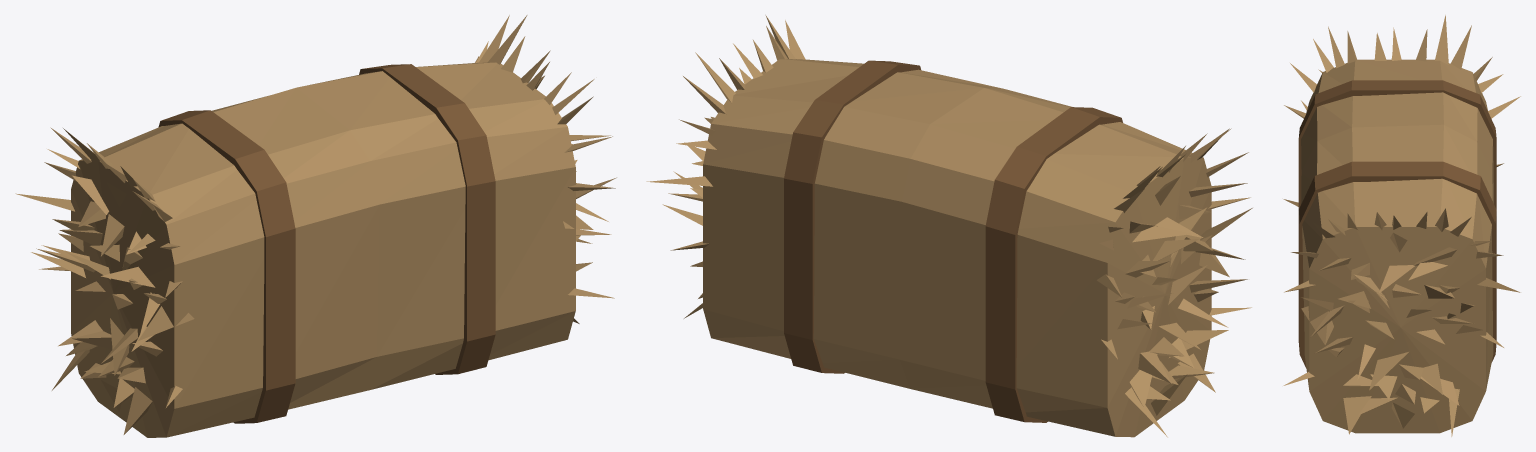
File: hay-bale-079e8c.glb
3 renders of one model, left to right at view 1: azimuth 30°, elevation 25°; view 2: azimuth 150°, elevation 25°; view 3: azimuth 270°, elevation 25°, orthographic. The views are drawn at different scales.
Parts seen in each view (by area): view 1: hay-bale-block; view 2: hay-bale-block; view 3: hay-bale-block.
Part boxes in pixels (left/top/right/bottom): hay-bale-block: left=15, top=15, right=616, bottom=437; hay-bale-block: left=646, top=15, right=1252, bottom=437; hay-bale-block: left=1283, top=15, right=1520, bottom=436.
Bounding box in the file's own units: 0.9405 × 0.5155 × 0.46.
